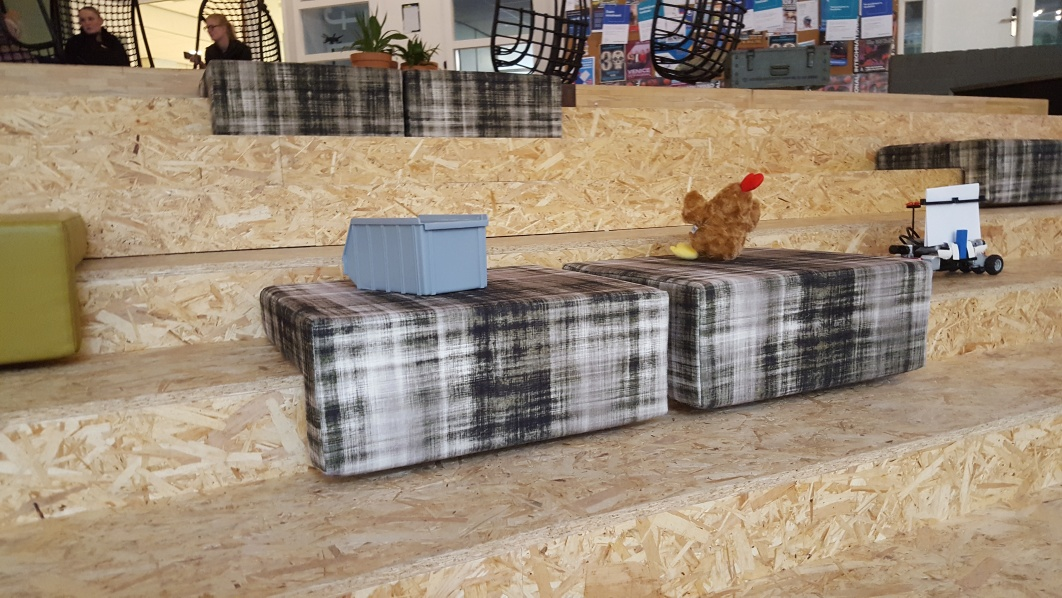beam: (953, 229, 971, 263)
chicken: (668, 169, 769, 262)
tray: (340, 213, 493, 293)
